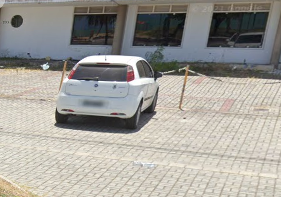car: (50, 46, 162, 136)
